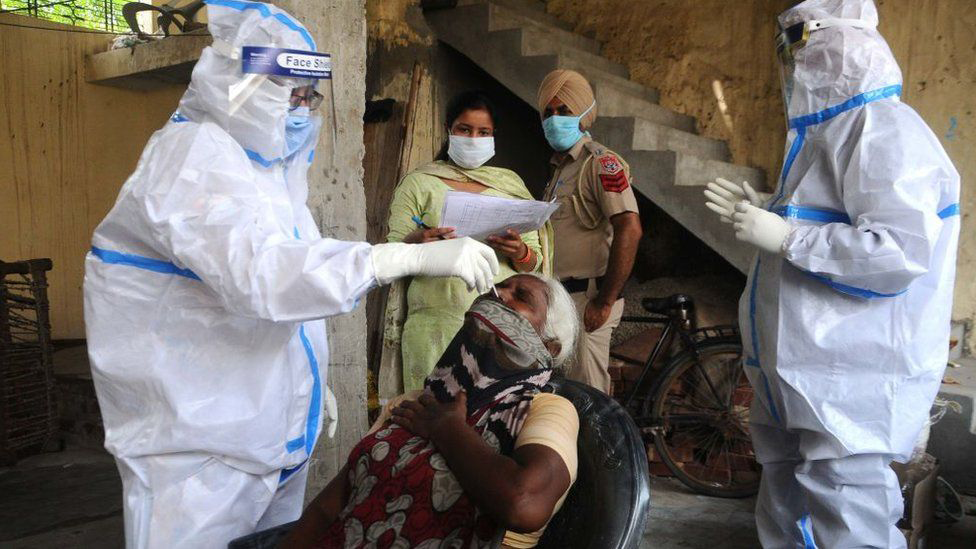Coverall: (96, 7, 335, 549), (748, 1, 946, 549)
Gloves: (370, 236, 500, 295), (697, 174, 762, 226), (734, 196, 789, 256)
with_mask: (278, 78, 324, 164), (443, 118, 500, 173), (536, 97, 585, 153)
